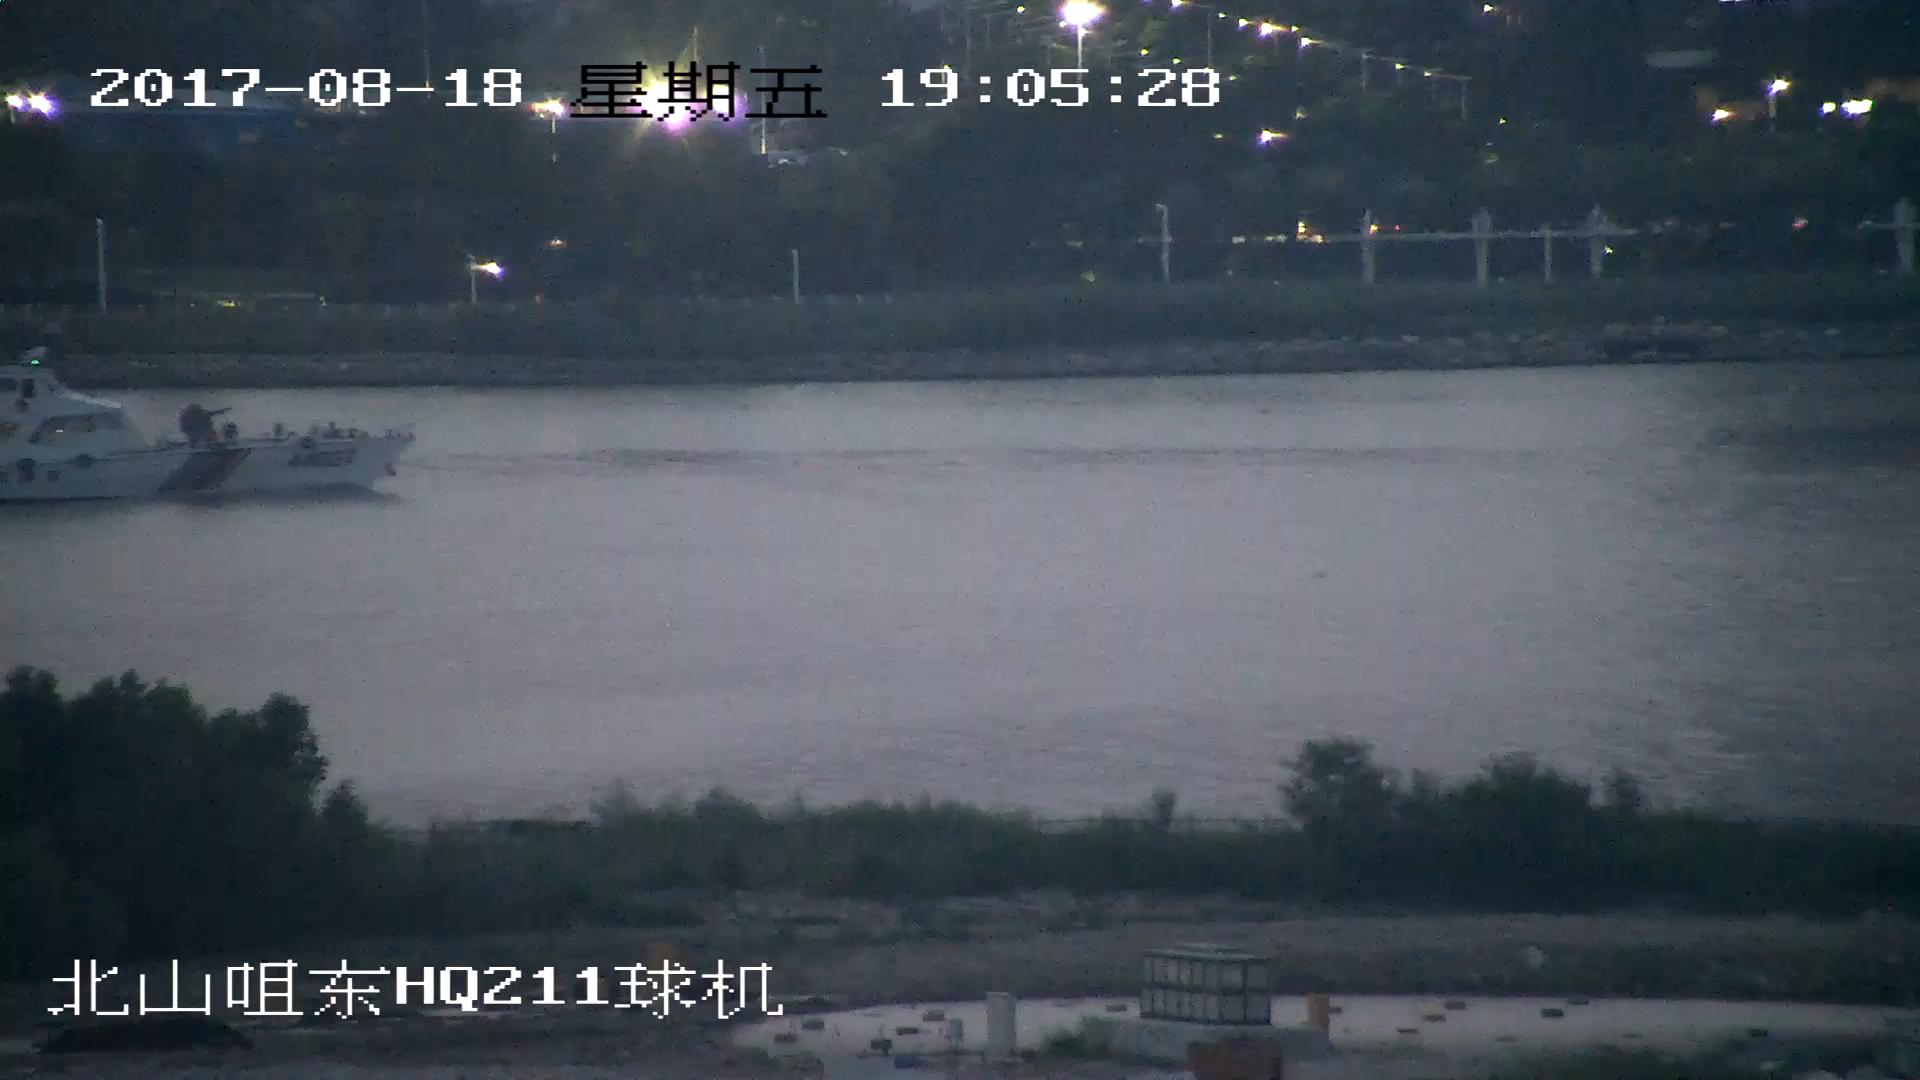passenger ship: (1, 353, 414, 500)
